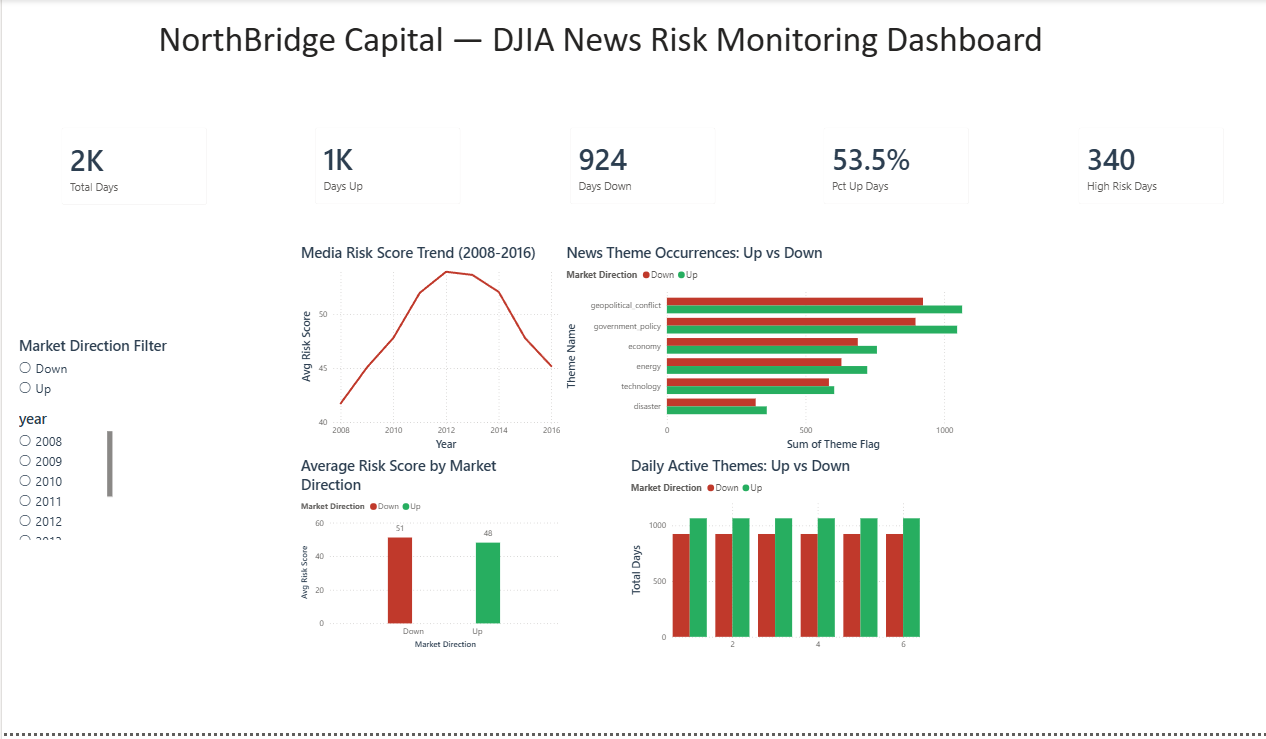

The page's visual inventory and layout, read from the dashboard file:
{"tool":"powerbi","page":{"name":"Page 1","canvas":[1900,1100],"ordinal":0},"visuals":[{"type":"listSlicer","title":"Market Direction Filter","fields":{"Values":["djia_news_processed.Market Direction"]},"box":[20.8,503.7,253.3,100],"z":0},{"type":"cardVisual","fields":{"Data":["djia_news_processed.Total Days"]},"box":[72.1,176.2,252,150],"z":1000},{"type":"cardVisual","fields":{"Data":["djia_news_processed.Days Up"]},"box":[452.9,176.2,252.1,149.8],"z":2000},{"type":"cardVisual","fields":{"Data":["djia_news_processed.Days Down"]},"box":[833.8,176.2,252.1,149.8],"z":3000},{"type":"cardVisual","fields":{"Data":["djia_news_processed.Pct Up Days"]},"box":[1214.7,176.2,252.1,149.8],"z":4000},{"type":"cardVisual","fields":{"Data":["djia_news_processed.High Risk Days"]},"box":[1595.6,176.2,252.1,149.8],"z":5000},{"type":"lineChart","title":"Media Risk Score Trend (2008-2016)","fields":{"Category":["djia_news_processed.Date.Variation.Date Hierarchy.Year","djia_news_processed.Date.Variation.Date Hierarchy.Quarter","djia_news_processed.Date.Variation.Date Hierarchy.Month","djia_news_processed.Date.Variation.Date Hierarchy.Day"],"Y":["djia_news_processed.Avg Risk Score"]},"box":[442.4,365.2,398,318],"z":6000},{"type":"clusteredBarChart","title":"News Theme Occurrences: Up vs Down","fields":{"Series":["djia_news_processed.Market Direction"],"Category":["Theme_Table.Theme Name"],"Y":["Sum(Theme_Table.Theme Flag)"]},"box":[840.2,364.6,672.3,317.9],"z":7000},{"type":"clusteredColumnChart","title":"Average Risk Score by Market Direction","fields":{"Category":["djia_news_processed.Market Direction"],"Y":["djia_news_processed.Avg Risk Score"],"Series":["djia_news_processed.Market Direction"]},"box":[442.8,683.5,398.3,295],"z":8000},{"type":"textbox","box":[72.7,22.7,1650,75],"z":9000},{"type":"listSlicer","fields":{"Values":["djia_news_processed.year"]},"box":[20.8,612.9,150,202.3],"z":10000},{"type":"clusteredColumnChart","title":"Daily Active Themes: Up vs Down","fields":{"Category":["Theme_Table.num_active_themes"],"Series":["djia_news_processed.Market Direction"],"Y":["djia_news_processed.Total Days"]},"box":[937.9,683.5,443.2,320.5],"z":11000}]}

Visuals, with their boxes in screenshot pixels (x1, y1, x2, y2), scaled from the page's 1900x1100 canvas onto the 1266x739 screenshot:
"Market Direction Filter" listSlicer: (left=14, top=338, right=183, bottom=406)
cardVisual - djia_news_processed.Total Days: (left=48, top=118, right=216, bottom=219)
cardVisual - djia_news_processed.Days Up: (left=302, top=118, right=470, bottom=219)
cardVisual - djia_news_processed.Days Down: (left=556, top=118, right=724, bottom=219)
cardVisual - djia_news_processed.Pct Up Days: (left=809, top=118, right=977, bottom=219)
cardVisual - djia_news_processed.High Risk Days: (left=1063, top=118, right=1231, bottom=219)
"Media Risk Score Trend (2008-2016)" lineChart: (left=295, top=245, right=560, bottom=459)
"News Theme Occurrences: Up vs Down" clusteredBarChart: (left=560, top=245, right=1008, bottom=459)
"Average Risk Score by Market Direction" clusteredColumnChart: (left=295, top=459, right=560, bottom=657)
textbox: (left=48, top=15, right=1148, bottom=66)
listSlicer - djia_news_processed.year: (left=14, top=412, right=114, bottom=548)
"Daily Active Themes: Up vs Down" clusteredColumnChart: (left=625, top=459, right=920, bottom=675)
